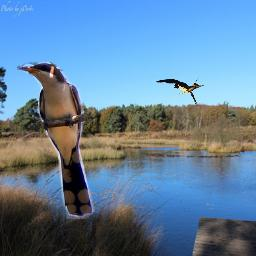Cuckoo: (17, 62, 95, 219)
Swallow: (155, 76, 213, 106)
